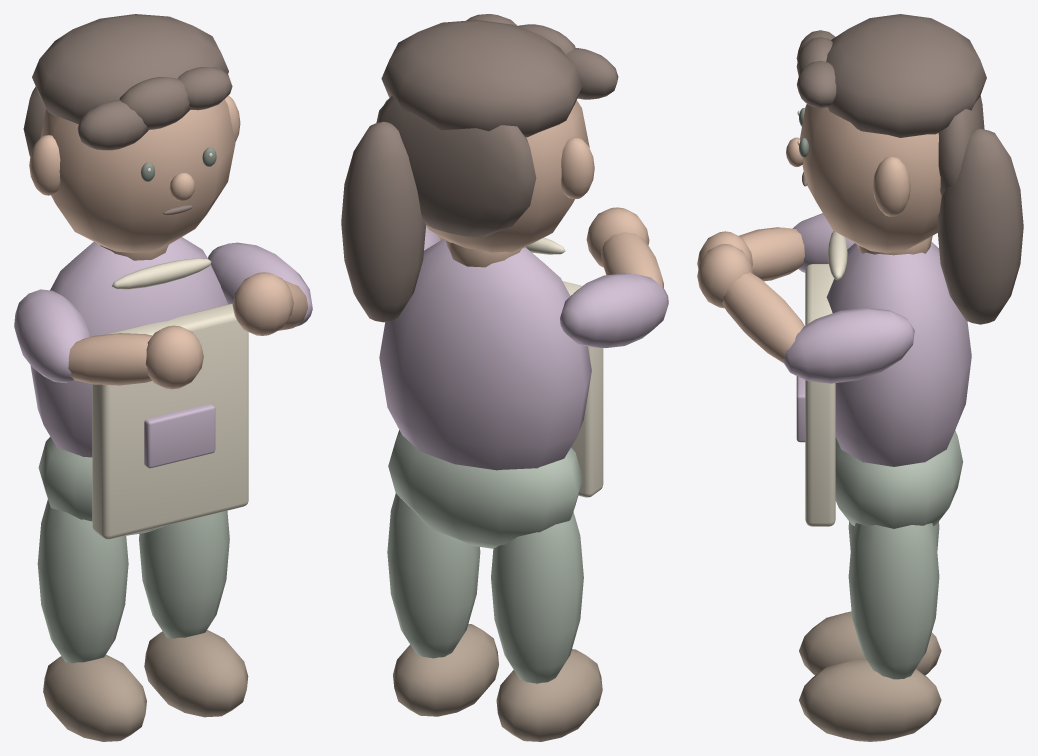
The model's file is alexis-work.glb.
3 renders of one model, left to right at view 1: azimuth 30°, elevation 25°; view 2: azimuth 150°, elevation 25°; view 3: azimuth 270°, elevation 25°, orthographic. The views are drawn at different scales.
Parts seen in each view (by area): view 1: Apron.005, Head.017, Padded shirt.017, Hair crown.017, Trouser leg.034, Trouser leg.035, Rounded boot.035, Rounded boot.034, Shirt sleeve.034, Forearm.034, Apron pocket.005, Soft trouser seat.017 (+11 smaller); view 2: Padded shirt.017, Hair crown.017, Soft trouser seat.017, Hair back.017, Ponytail.002, Trouser leg.034, Trouser leg.035, Rounded boot.034, Rounded boot.035, Shirt sleeve.034, Head.017, Apron.005 (+6 smaller); view 3: Padded shirt.017, Hair crown.017, Head.017, Ponytail.002, Trouser leg.035, Rounded boot.035, Soft trouser seat.017, Shirt sleeve.035, Apron.005, Forearm.035, Rounded boot.034, Forearm.034 (+9 smaller).
Part boxes in pixels (left/top/right/bottom): Apron.005: left=92, top=303, right=248, bottom=539; Head.017: left=40, top=99, right=235, bottom=252; Padded shirt.017: left=30, top=237, right=227, bottom=457; Hair crown.017: left=32, top=14, right=228, bottom=124; Trouser leg.034: left=37, top=499, right=128, bottom=663; Trouser leg.035: left=139, top=511, right=229, bottom=638; Rounded boot.035: left=144, top=630, right=248, bottom=717; Rounded boot.034: left=43, top=654, right=146, bottom=741; Shirt sleeve.034: left=14, top=289, right=89, bottom=383; Forearm.034: left=68, top=333, right=152, bottom=385; Apron pocket.005: left=144, top=403, right=215, bottom=468; Soft trouser seat.017: left=38, top=436, right=164, bottom=535; Padded shirt.017: left=379, top=238, right=591, bottom=470; Hair crown.017: left=381, top=20, right=582, bottom=137; Soft trouser seat.017: left=388, top=430, right=582, bottom=548; Hair back.017: left=376, top=96, right=536, bottom=237; Ponytail.002: left=341, top=121, right=425, bottom=322; Trouser leg.034: left=491, top=511, right=583, bottom=683; Trouser leg.035: left=387, top=493, right=480, bottom=658; Rounded boot.034: left=496, top=649, right=602, bottom=741; Rounded boot.035: left=393, top=624, right=498, bottom=716; Shirt sleeve.034: left=560, top=273, right=668, bottom=348; Head.017: left=426, top=100, right=589, bottom=252; Apron.005: left=562, top=281, right=603, bottom=497; Padded shirt.017: left=826, top=242, right=971, bottom=466; Hair crown.017: left=826, top=14, right=986, bottom=137; Head.017: left=799, top=104, right=941, bottom=253; Ponytail.002: left=937, top=129, right=1023, bottom=324; Trouser leg.035: left=848, top=523, right=939, bottom=679; Rounded boot.035: left=799, top=659, right=941, bottom=741; Soft trouser seat.017: left=835, top=430, right=962, bottom=528; Shirt sleeve.035: left=782, top=307, right=914, bottom=383; Apron.005: left=805, top=264, right=835, bottom=526; Forearm.035: left=722, top=272, right=804, bottom=363; Rounded boot.034: left=799, top=611, right=941, bottom=675; Forearm.034: left=739, top=227, right=804, bottom=281.
Bounding box in the file's own units: 0.7271 × 1.74 × 0.755.
